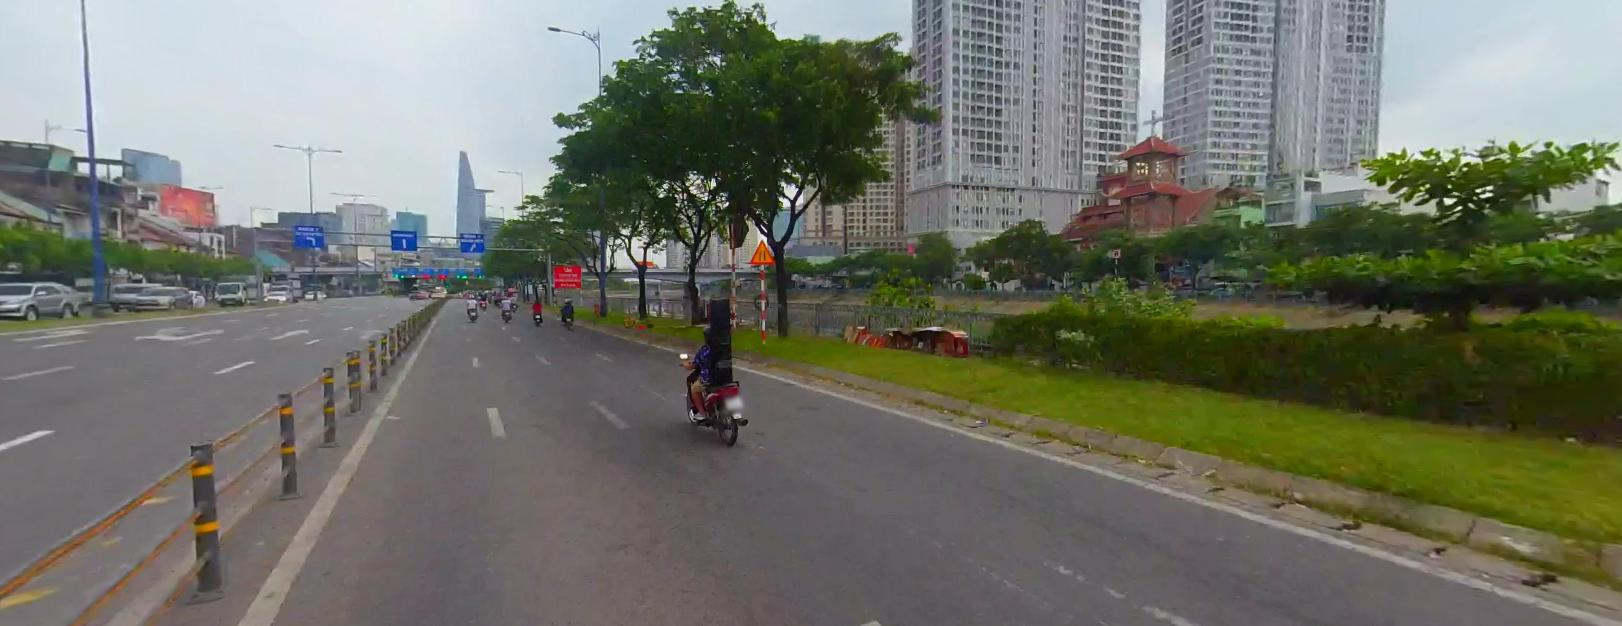Nguy hiem: (748, 238, 775, 264), (749, 238, 774, 262)
